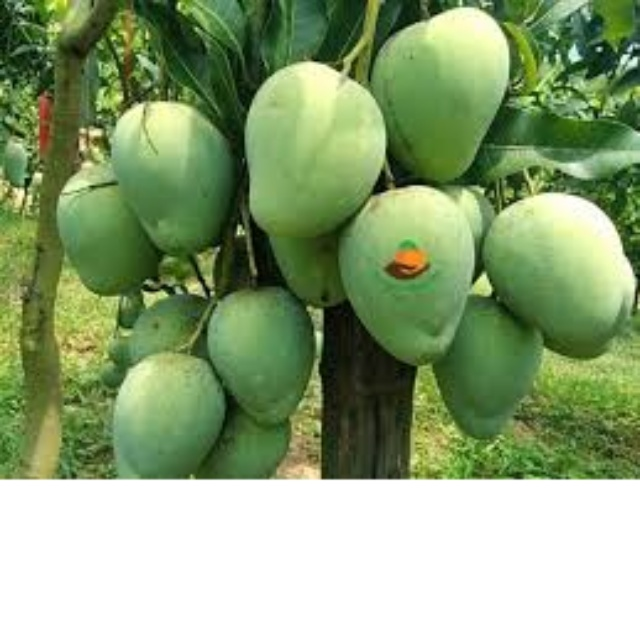thanh_long: (240, 51, 390, 244), (364, 7, 527, 182), (482, 169, 639, 343), (344, 180, 475, 372), (105, 98, 238, 252), (207, 288, 325, 423), (107, 362, 229, 485)
